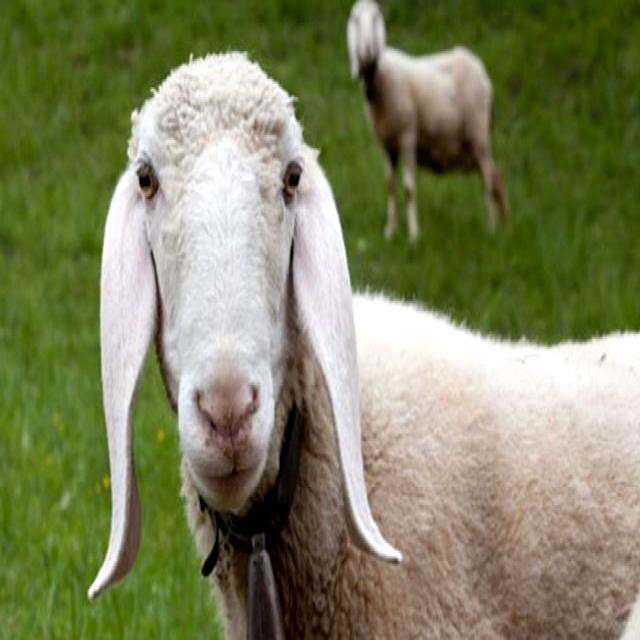sheep: (89, 54, 638, 637), (345, 0, 517, 253)
